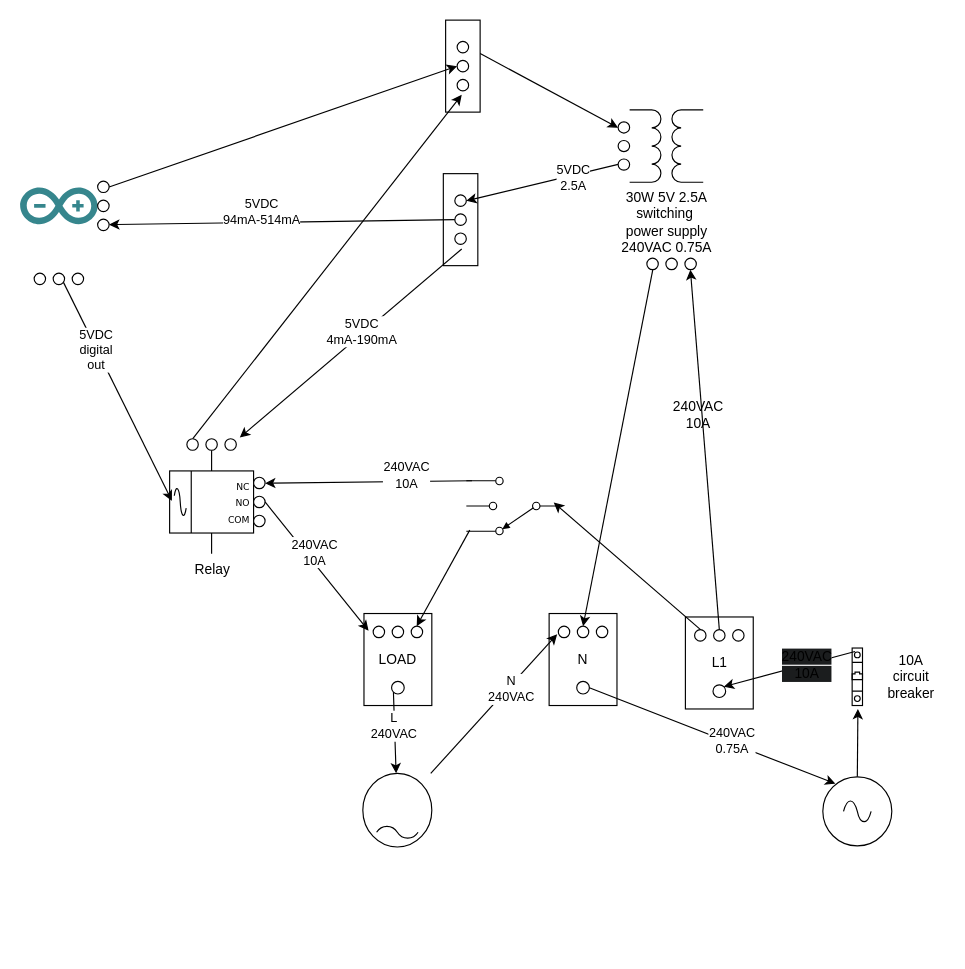
This 965x969 diagram has some shape labels left out. Here are the shapes that lost their labels. From the top down, the centre of each, then its label:
At point (58, 205): "Arduino UNO WiFi".
At point (511, 505): "SPDT toggle switch".
At point (397, 809): "1 1/2HP 10A 1-Phase Motor".
